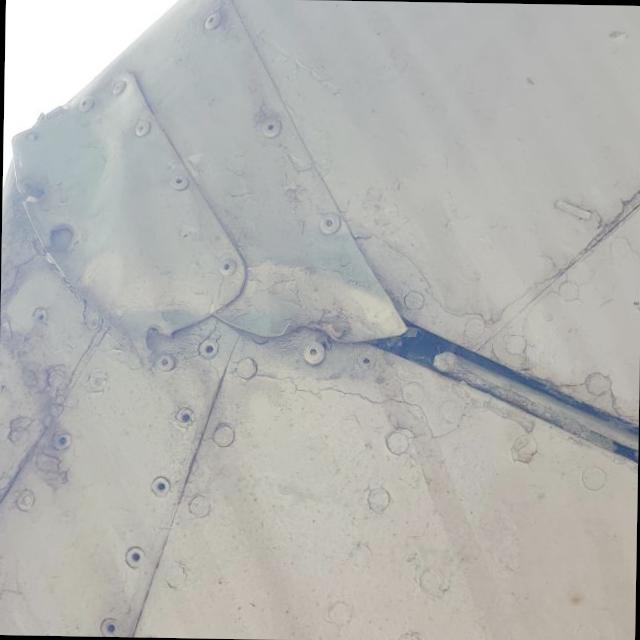crack: (264, 310, 354, 348)
